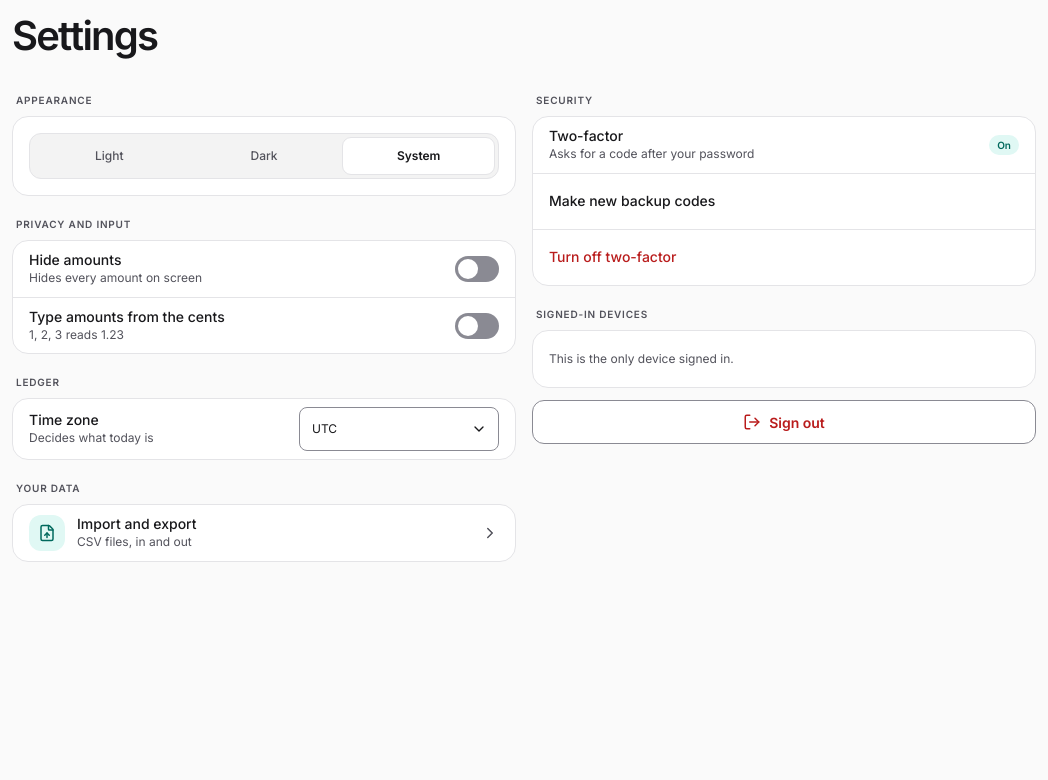
SettingsPage › shows one notice at a time, from whichever group made a change
Select "America/Chicago" in the dropdown labelled "Time zone": (399, 429) [299,407,499,451]
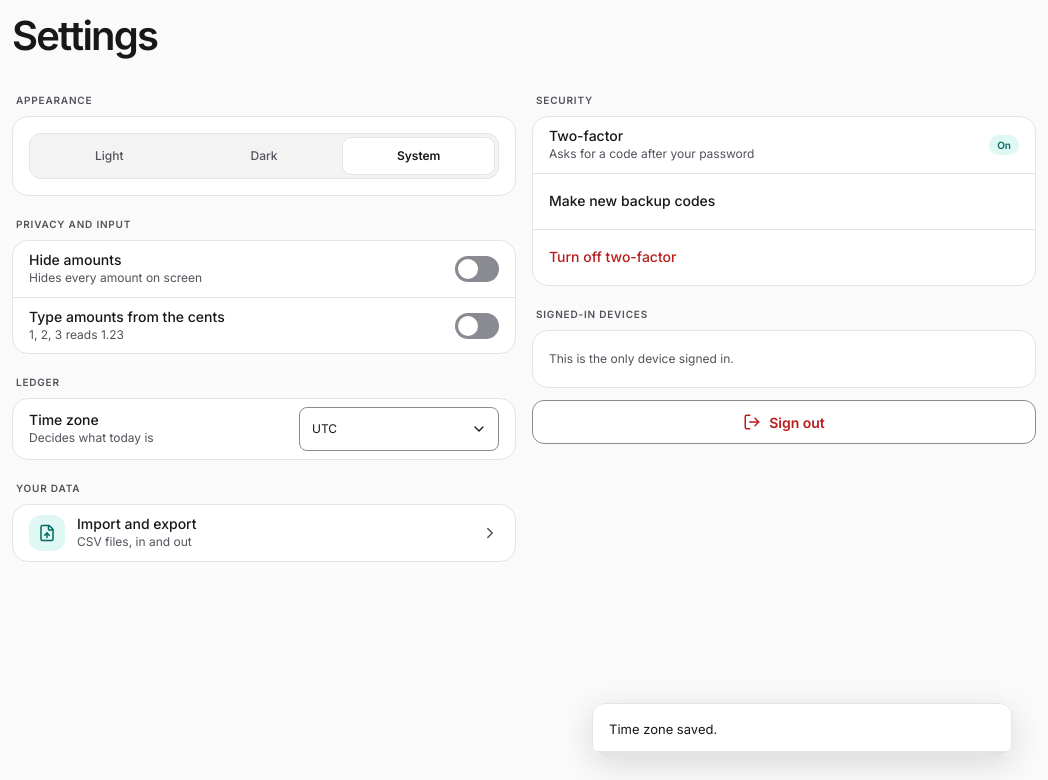
Expected: the message reads "Time zone saved.", [609,720,717,736]
Expected: the number of messages is 1, [609,720,717,736]
